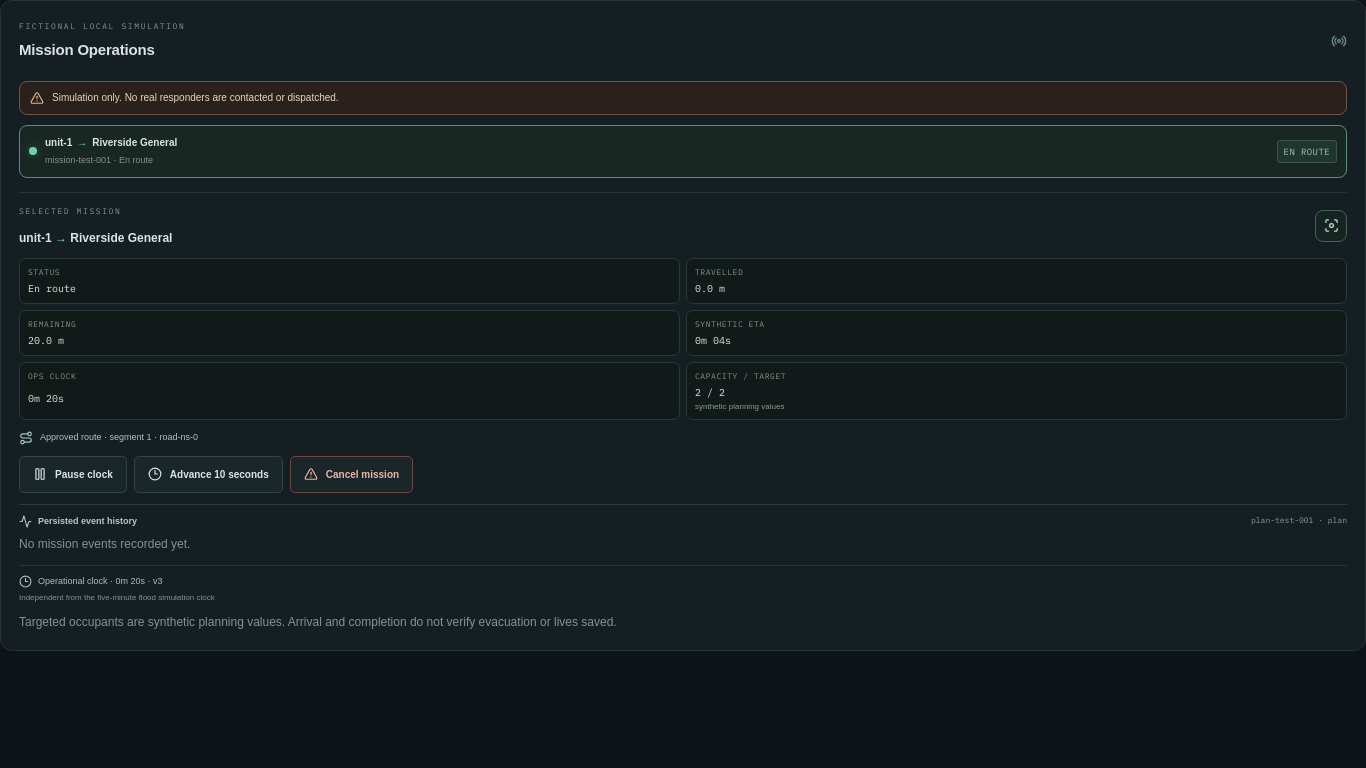
Test: Mission Operations panel › does not report success when an advance is rejected for a stale expected version
This screenshot has width=1366, height=768.
Click the button "Advance 10 seconds" at [208, 474], box [134,456,283,492]
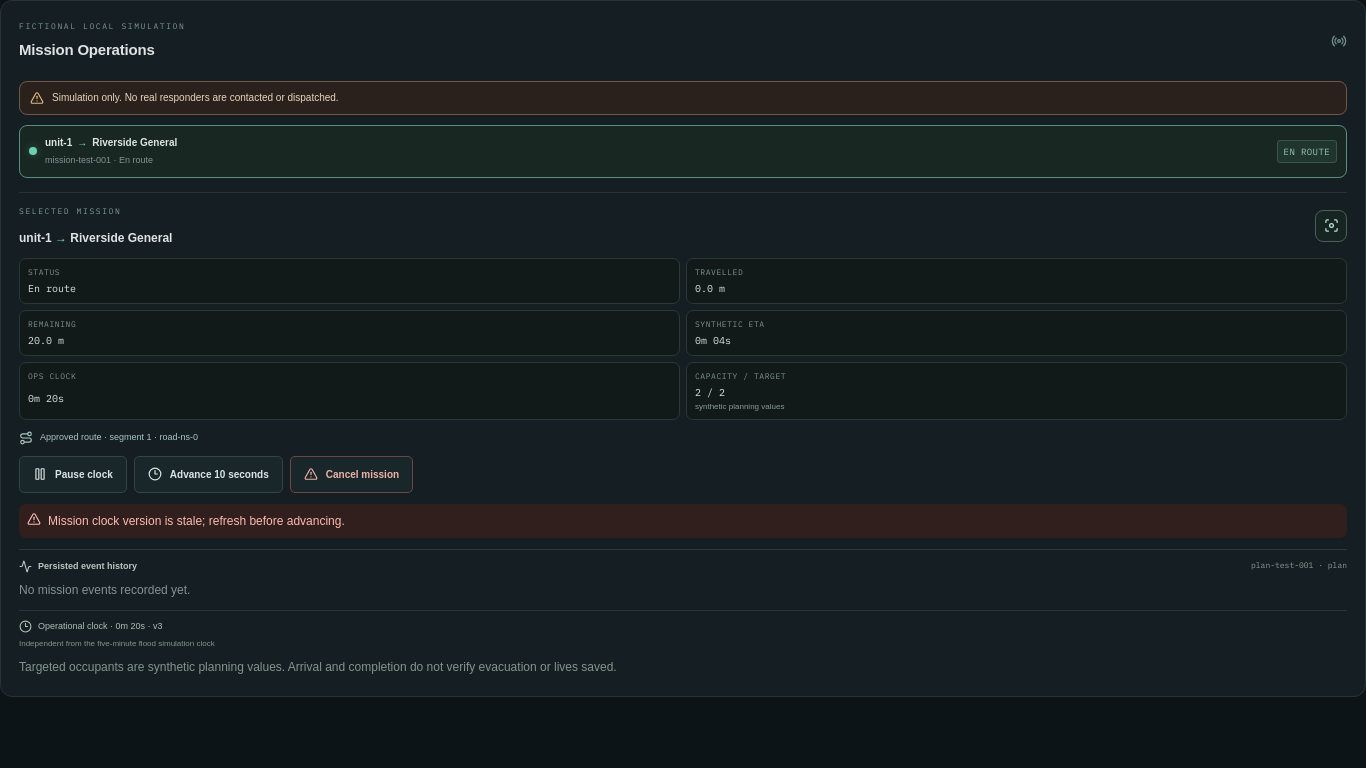
Expected: the message shows "Mission clock version is stale", [48,514,345,528]
